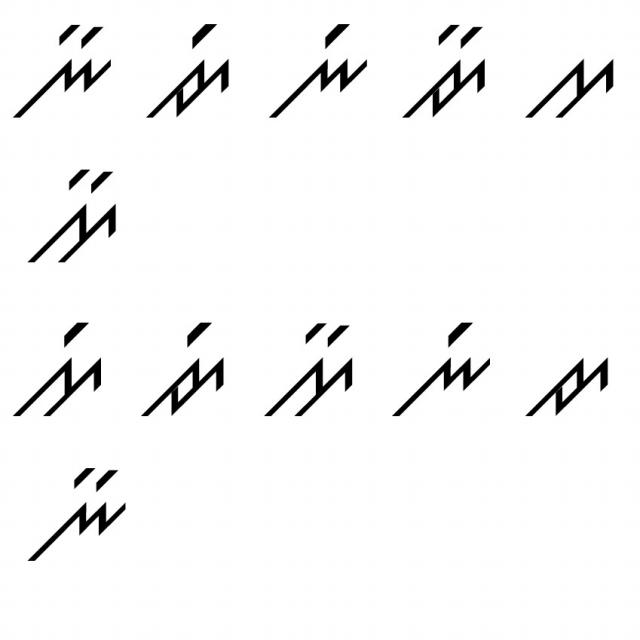ja: (523, 346, 613, 420)
jan: (394, 22, 496, 130)
jang: (131, 311, 231, 418), (137, 19, 233, 121)
nyan: (24, 456, 139, 568), (11, 20, 118, 119)
nyang: (389, 312, 506, 435), (263, 11, 373, 125)
sa: (518, 49, 617, 130)
san: (19, 162, 128, 274), (263, 316, 359, 427)
sang: (5, 305, 110, 428)
